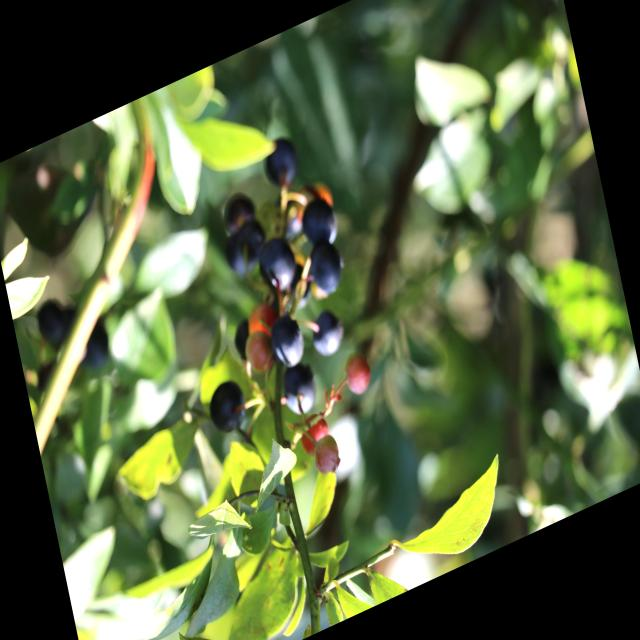blueberry: (303, 228, 350, 301), (270, 361, 321, 427), (255, 234, 299, 305), (305, 302, 351, 366), (298, 189, 344, 253), (206, 376, 251, 440), (266, 308, 308, 374), (260, 135, 302, 196), (217, 184, 262, 236), (225, 223, 268, 274)
blueberry-halfripe: (242, 324, 278, 379), (341, 348, 376, 400), (243, 300, 281, 347), (310, 430, 344, 480), (298, 410, 331, 457)
